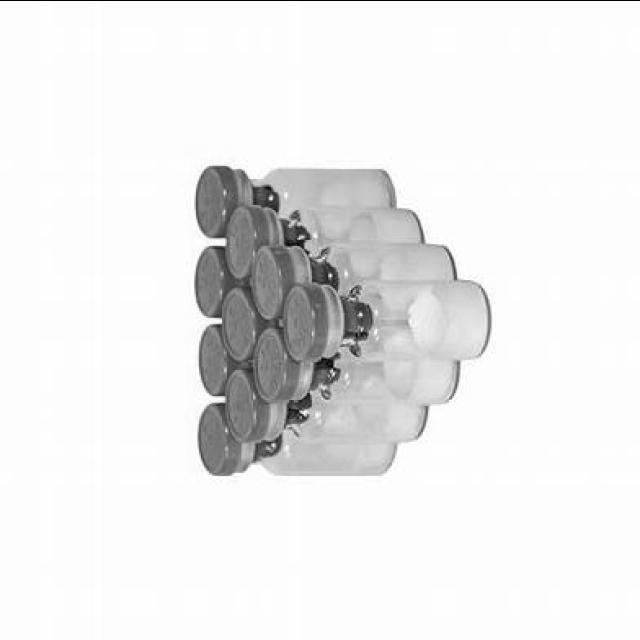vial: (189, 401, 227, 478), (228, 191, 260, 281), (192, 164, 228, 236), (193, 244, 223, 313), (224, 290, 250, 364), (256, 330, 288, 390), (257, 244, 286, 308), (284, 287, 314, 347), (198, 329, 229, 383), (228, 376, 252, 436)
